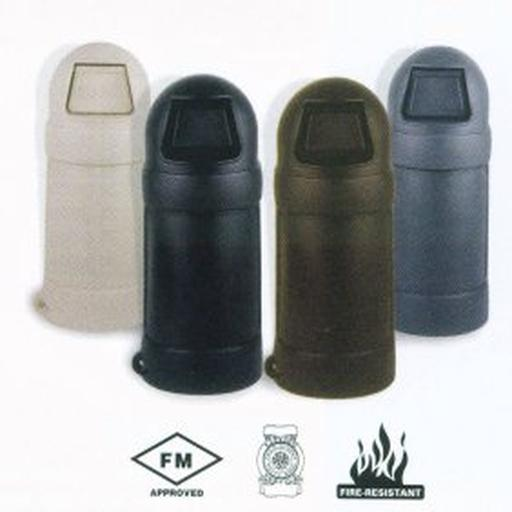Crewmate: (134, 72, 263, 395), (267, 74, 396, 397), (40, 37, 151, 335), (386, 44, 493, 338)
